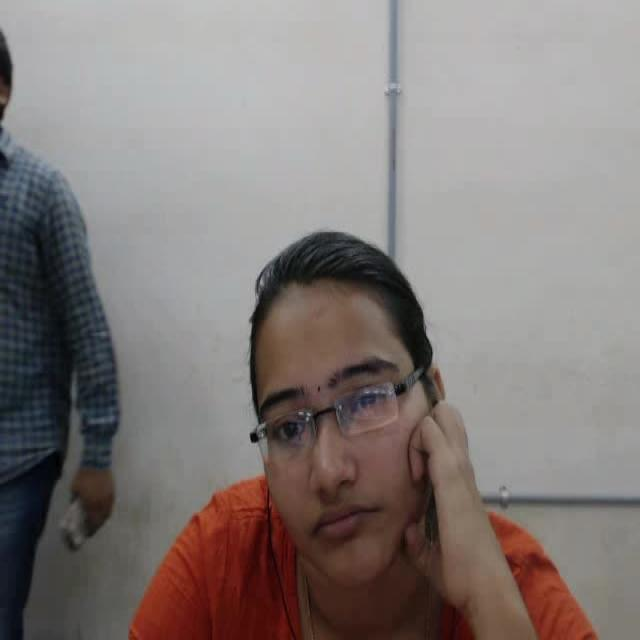Bored: (224, 197, 545, 611)
